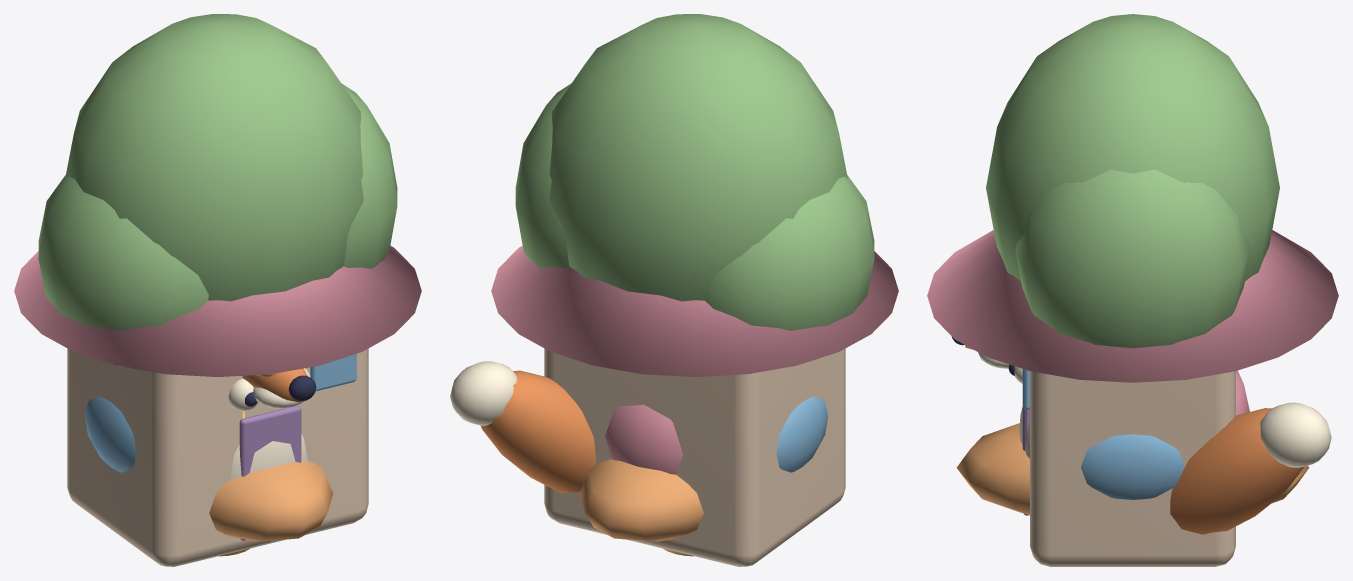
The model's file is toybox.glb.
3 views of the same model, side by side, from view 1: azimuth 30°, elevation 25°; view 2: azimuth 150°, elevation 25°; view 3: azimuth 270°, elevation 25° (orthographic).
Visible parts, largest first — view 1: tree, house, boat, fox, bird, snail; view 2: tree, house, fox, boat, snail, bird; view 3: tree, house, fox, bird, boat, snail.
Boxes of the visible parts, x1,y1,x2,y2 form: tree: (38, 14, 397, 366); house: (14, 245, 421, 566); boat: (209, 461, 333, 541); fox: (230, 368, 316, 479); bird: (85, 373, 277, 472); snail: (228, 368, 310, 418); tree: (515, 14, 874, 366); house: (491, 245, 898, 566); fox: (450, 361, 596, 492); boat: (580, 459, 703, 541); snail: (605, 404, 683, 474); bird: (776, 396, 827, 472); tree: (986, 14, 1279, 348); house: (927, 230, 1338, 566); fox: (951, 336, 1331, 534); bird: (1081, 434, 1184, 499); boat: (956, 423, 1309, 515); snail: (1008, 364, 1249, 415).
Bounding box in the file's own units: 1.4 × 1.99 × 1.4.
